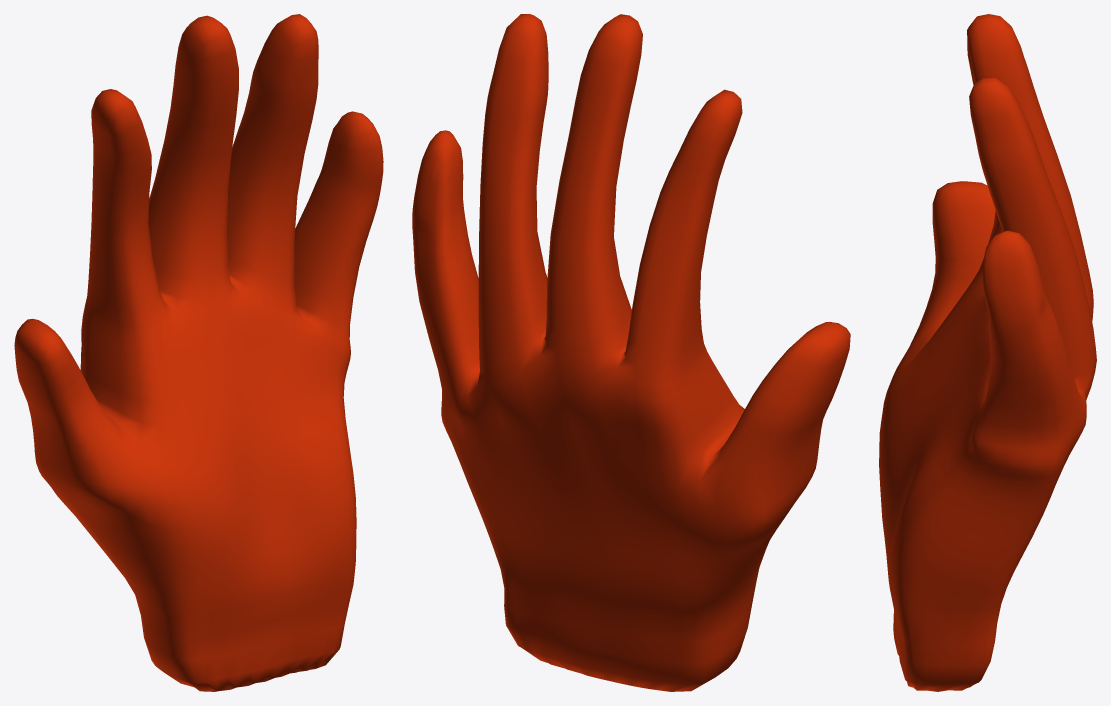
File: hand_orange.obj
The picture shows the model from 3 angles, left to right: view 1: azimuth 30°, elevation 25°; view 2: azimuth 150°, elevation 25°; view 3: azimuth 270°, elevation 25°; orthographic projection. The views are drawn at different scales.
Visible parts, largest first — view 1: Cube; view 2: Cube; view 3: Cube.
Boxes of the visible parts, x1,y1,x2,y2 form: Cube: [14, 14, 383, 691]; Cube: [412, 14, 850, 691]; Cube: [879, 14, 1096, 691].
Bounding box in the file's own units: 2.71 × 4.47 × 1.38.
